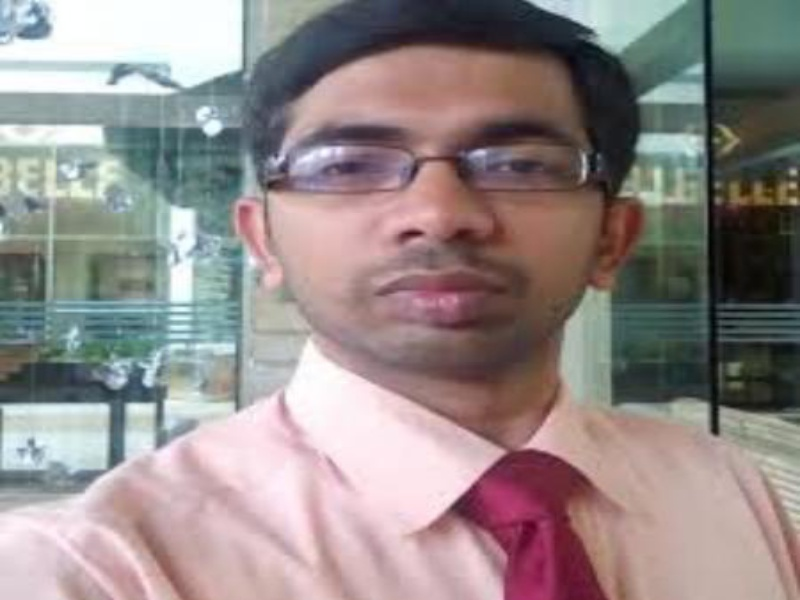TsisyArotava: (216, 4, 672, 404)
